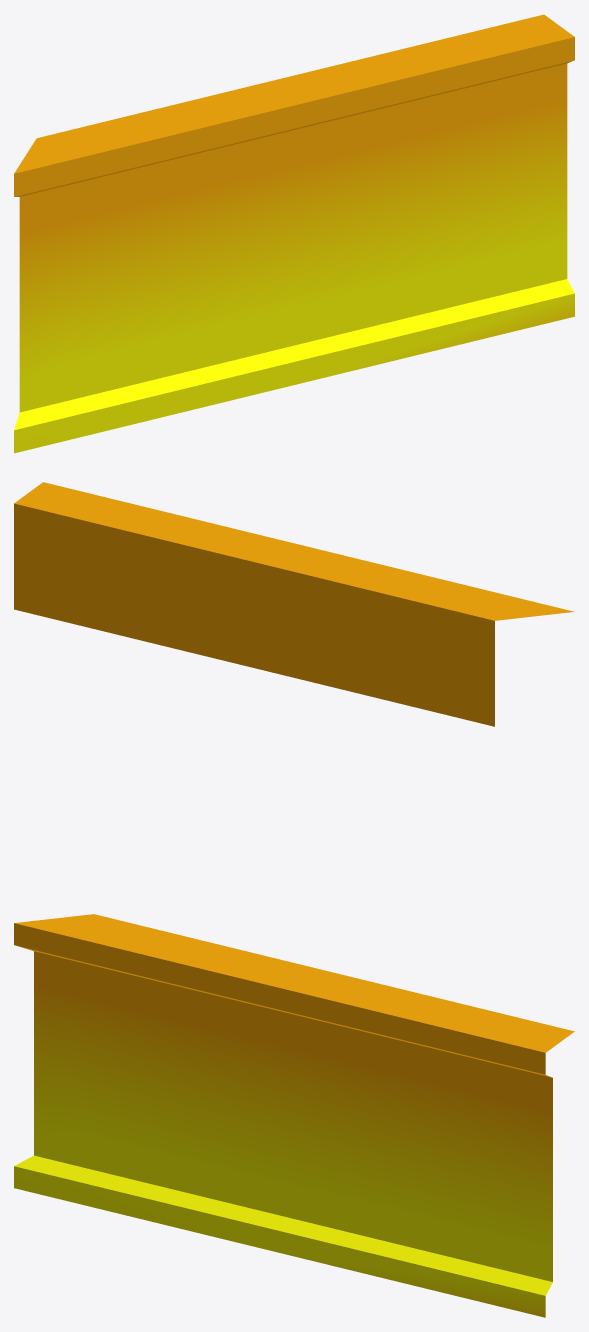
File: cornice-metal-l.glb
3 renders of one model, top to bottom at view 1: azimuth 30°, elevation 25°; view 2: azimuth 150°, elevation 25°; view 3: azimuth 330°, elevation 25°, orthographic. The views are drawn at different scales.
Visible parts, largest first — view 1: Cornice_Metal_L; view 2: Cornice_Metal_L; view 3: Cornice_Metal_L.
Part boxes in pixels (x1,y1,x2,y2): Cornice_Metal_L: [14, 14, 574, 453]; Cornice_Metal_L: [14, 482, 574, 726]; Cornice_Metal_L: [14, 914, 574, 1317].
Size of the model in its own units: 2.1 by 1 by 0.2.
1 material, 1 textured.
